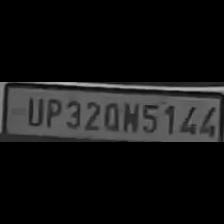0: (100, 100, 120, 132)
1: (158, 101, 176, 135)
2: (81, 97, 101, 132)
3: (61, 96, 80, 130)
4: (176, 102, 198, 136), (196, 104, 216, 136)
5: (138, 100, 160, 134)
H: (121, 100, 139, 134)
P: (42, 96, 62, 128)
U: (23, 95, 43, 127)
